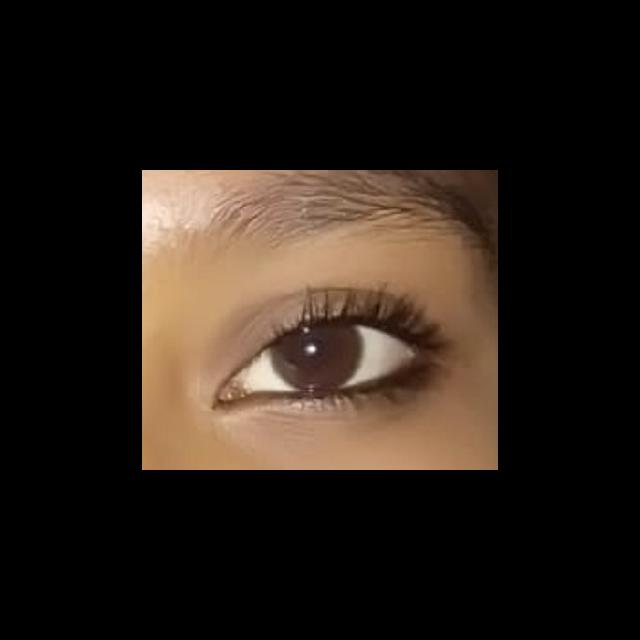eye: (242, 322, 413, 395)
iris: (266, 322, 363, 392)
